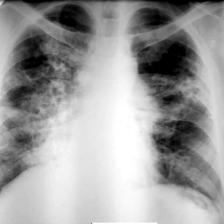tuberculosis: (0, 1, 224, 212)
